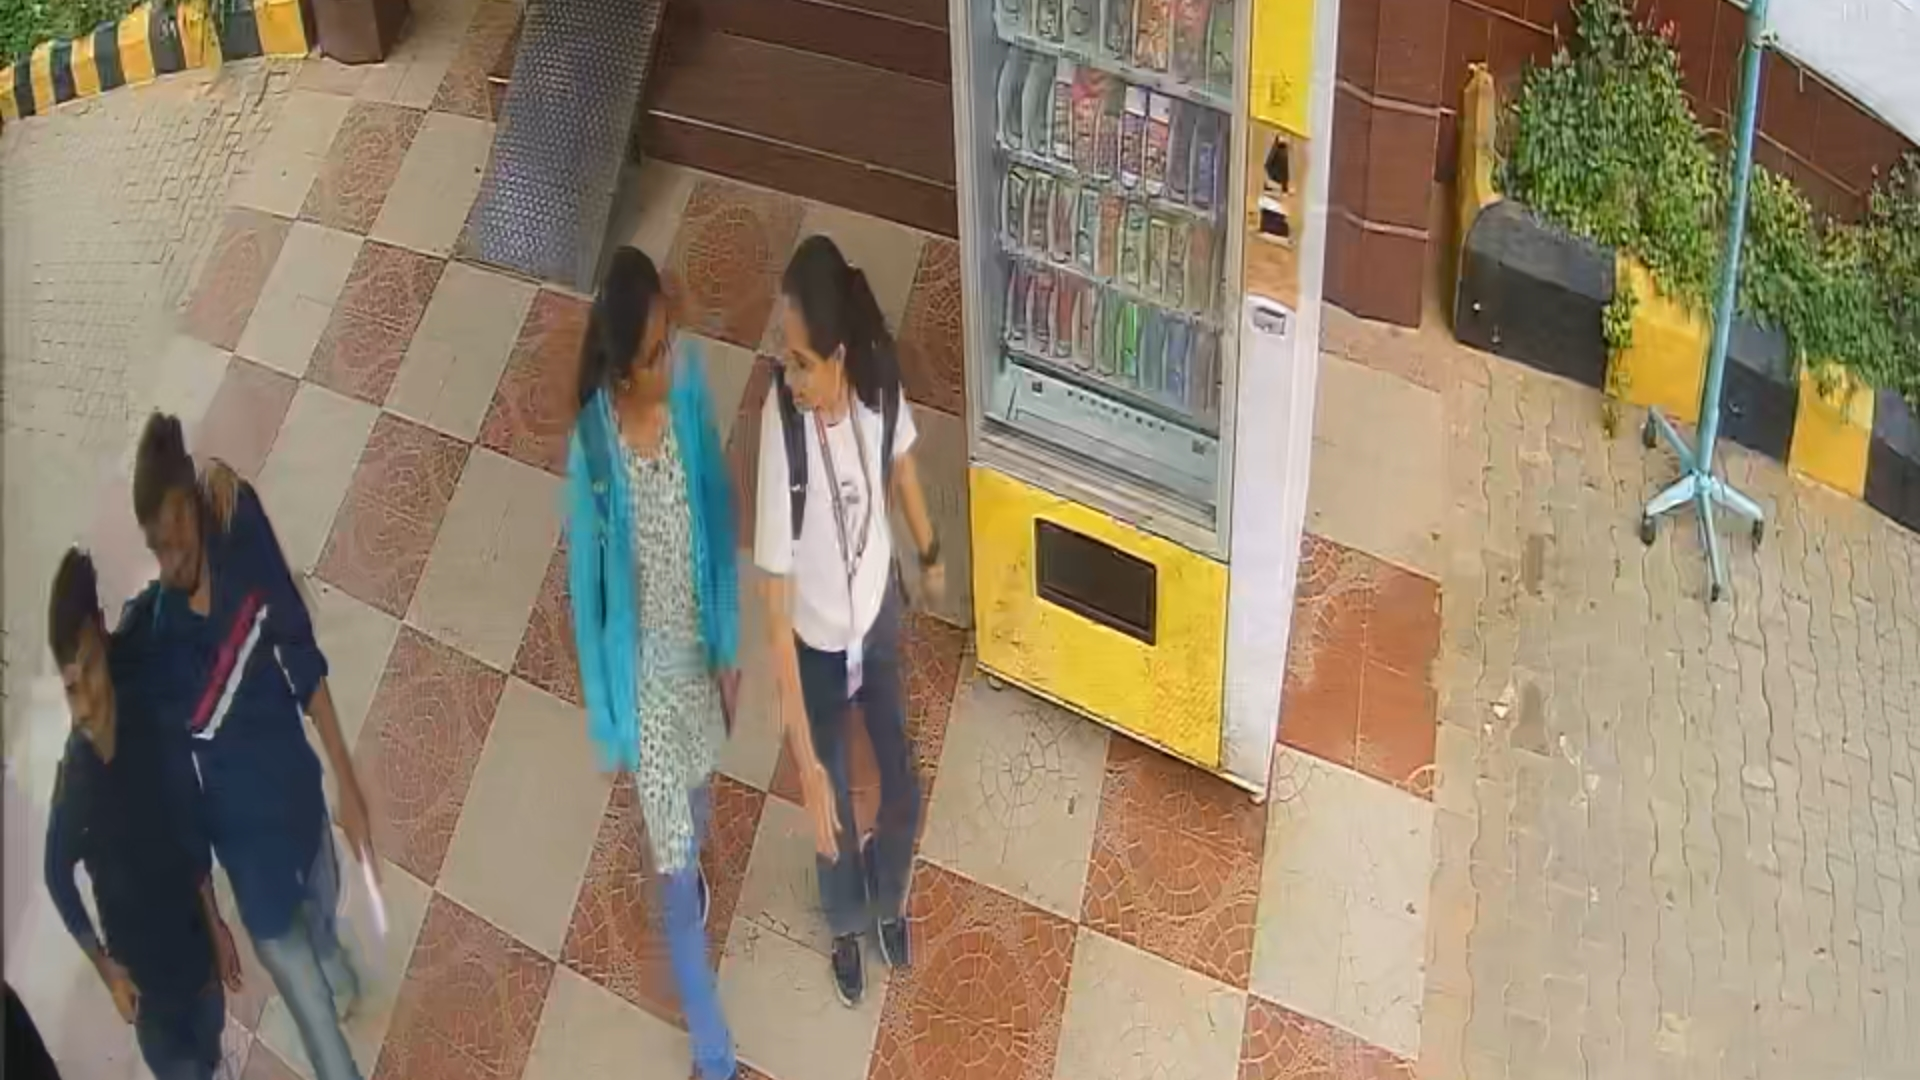intruder: (105, 390, 400, 1069), (554, 251, 783, 1080), (21, 559, 236, 1065)
not intruder: (761, 231, 971, 1004)
